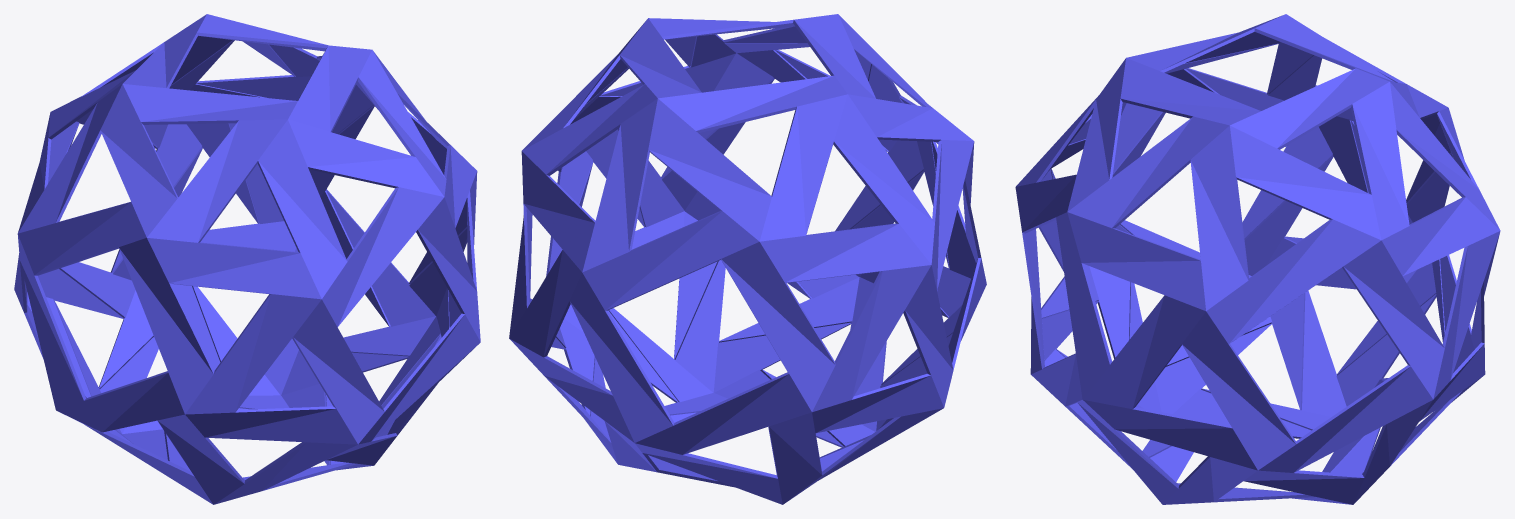
The model's file is SnubCube.glb.
The picture shows the model from 3 angles, left to right: view 1: azimuth 30°, elevation 25°; view 2: azimuth 150°, elevation 25°; view 3: azimuth 270°, elevation 25°; orthographic projection. The views are drawn at different scales.
Visible parts, largest first — view 1: root; view 2: root; view 3: root.
Boxes of the visible parts, x1,y1,x2,y2 form: root: (14,14,480,504); root: (509,14,986,504); root: (1015,14,1500,504).
Bounding box in the file's own units: 7.63 × 6.86 × 7.63.
